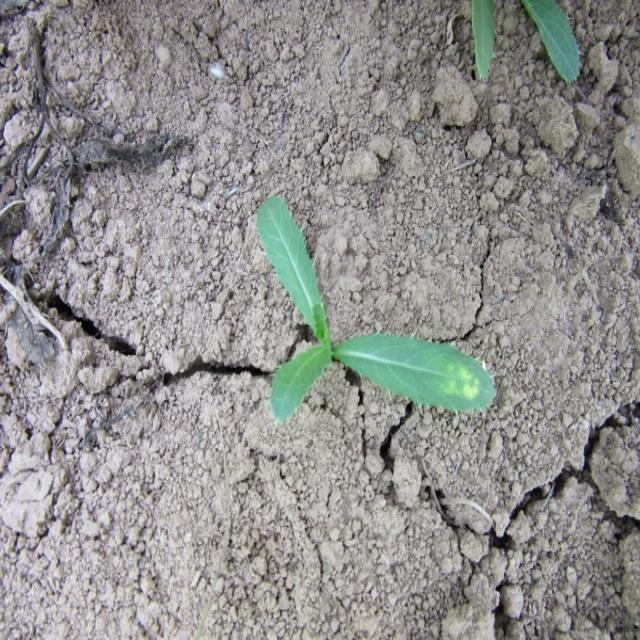field_thistle: (231, 184, 504, 454)
